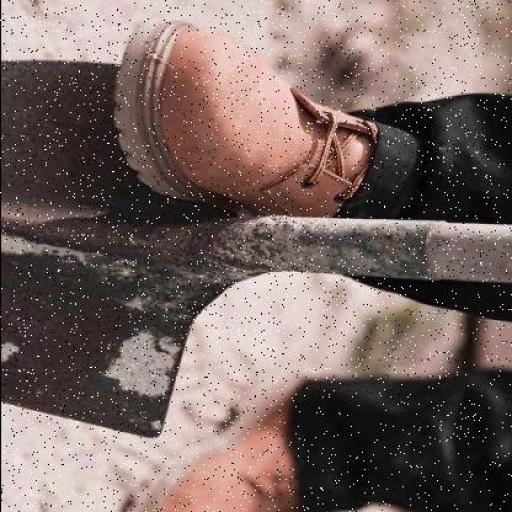safety_shoe: (114, 32, 386, 230), (140, 368, 326, 512)
